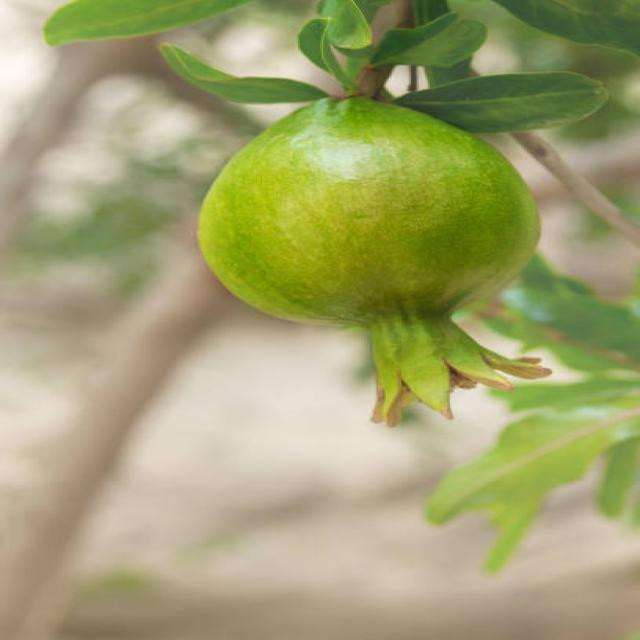Unripe: (200, 94, 552, 428)
